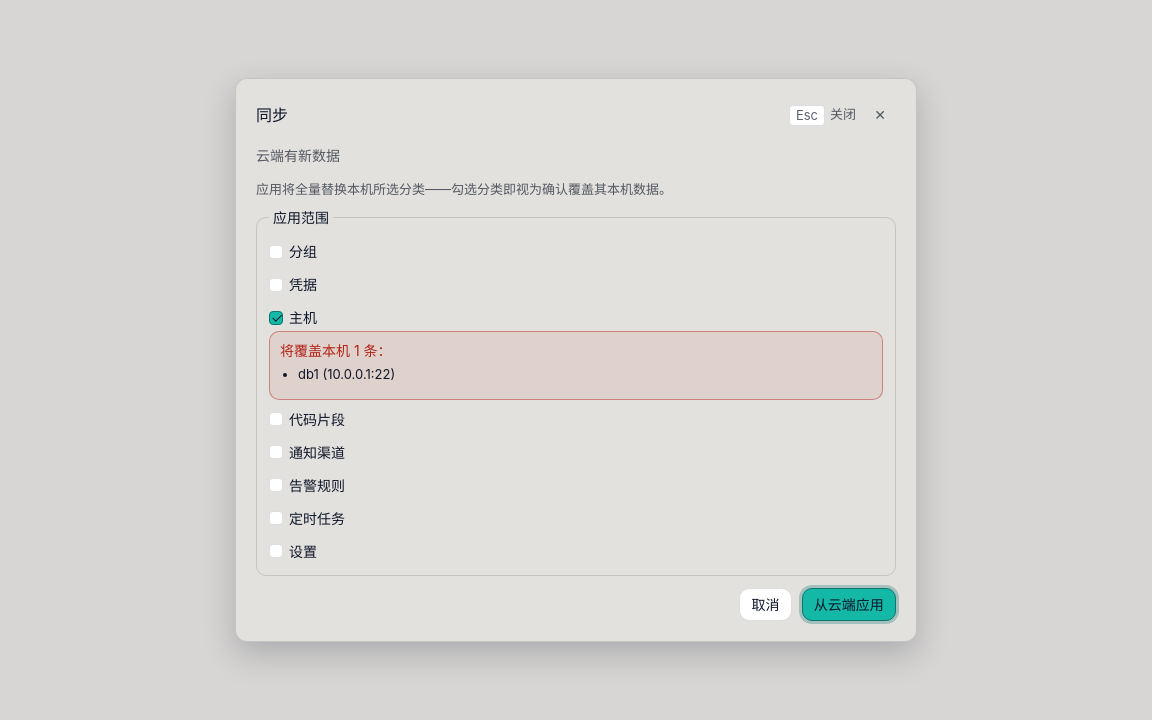
Test: SyncDialog › BL-525：导入后实体刷新失败 → 错误面如实呈现（form-error 可见，不吞不假成功）
Expected: the element with test id "sync-pull-panel" is shown, [256,145,896,621]
Click the button with test id "sync-pull-start" at coordinates (849, 604), box [802,588,896,621]
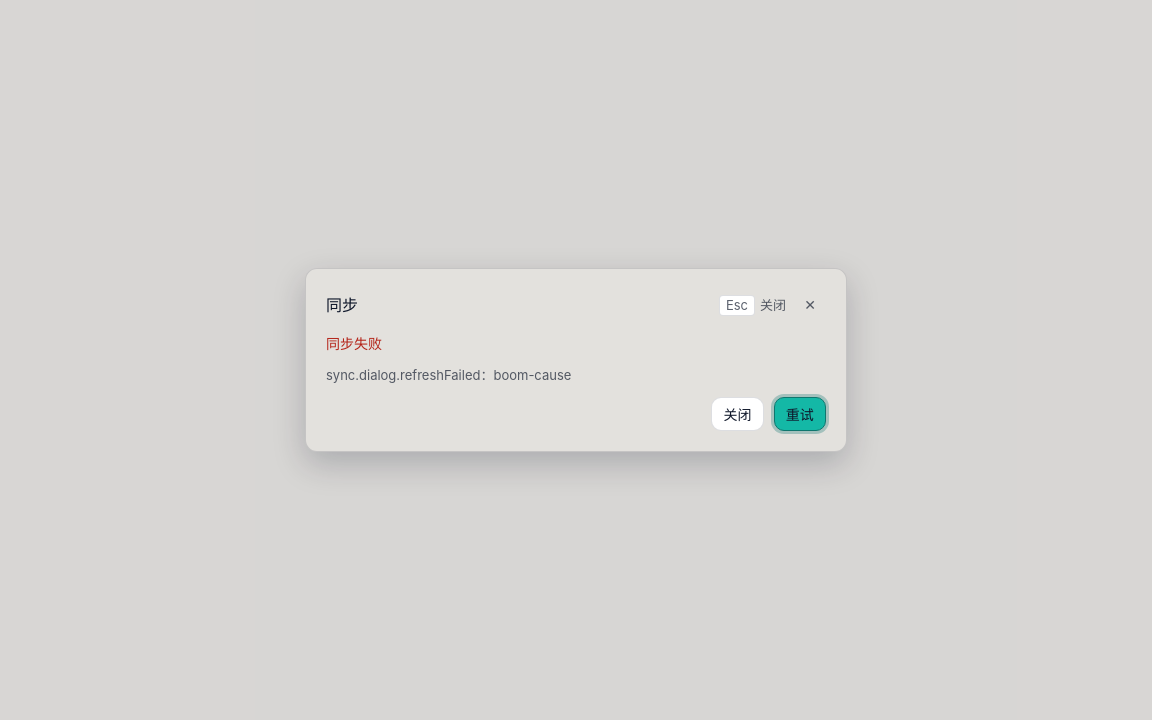
Result: the element with test id "sync-error" shows "sync.dialog.refreshFailed" at [326,368,571,384]
Result: the element with test id "sync-error" shows "boom-cause" at [326,368,571,384]
